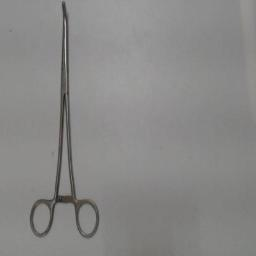Lahey Forceps: (22, 0, 102, 242)
